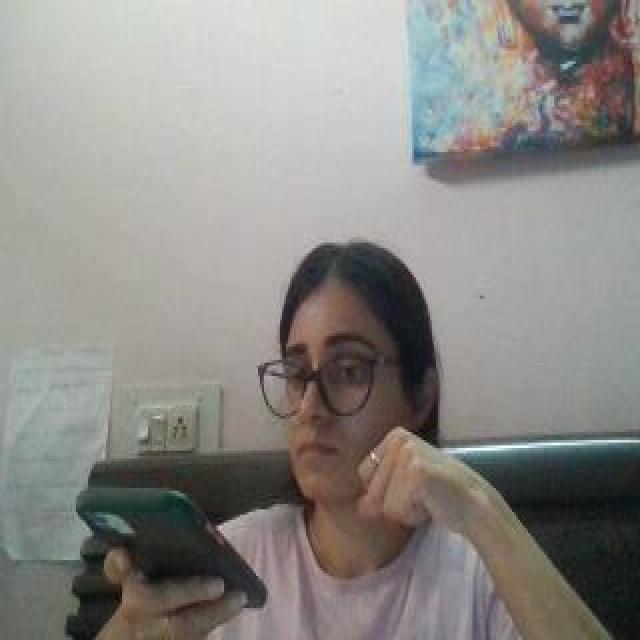phone: (76, 480, 270, 611)
